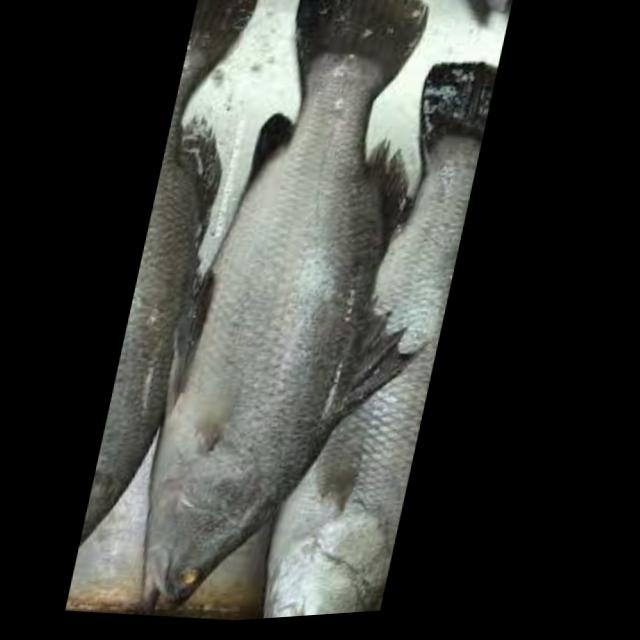Seabass: (121, 0, 508, 628), (257, 48, 499, 619)
